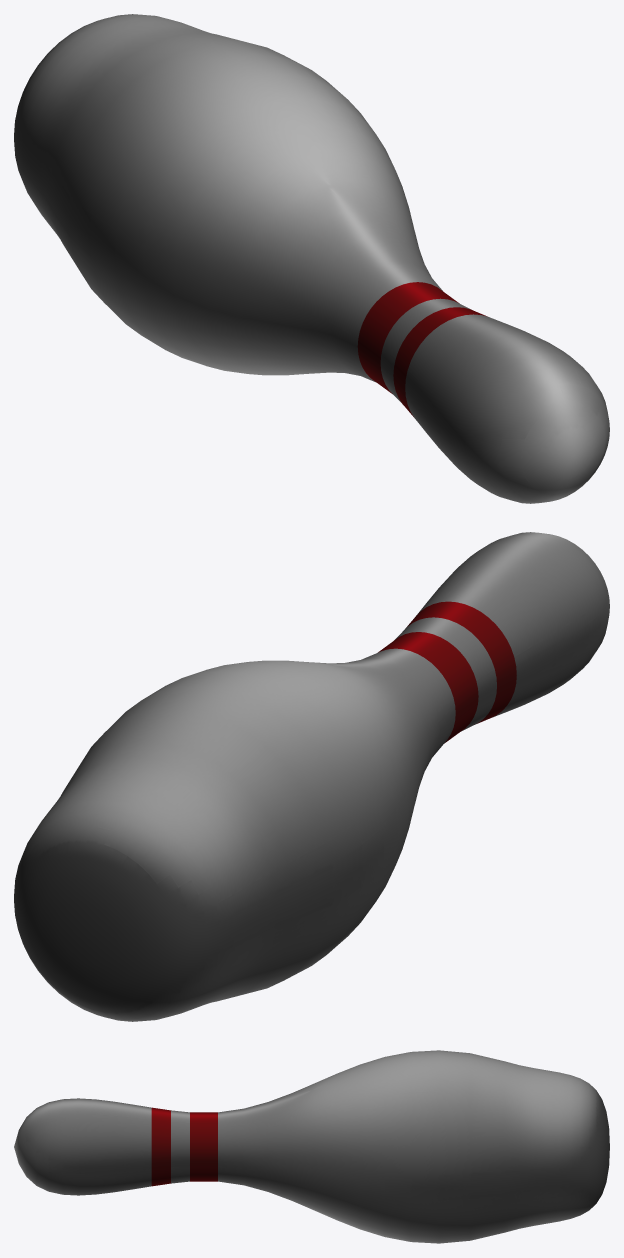
The model's file is BowlingPin.gltf.
3 renders of one model, top to bottom at view 1: azimuth 30°, elevation 25°; view 2: azimuth 150°, elevation 25°; view 3: azimuth 270°, elevation 25°, orthographic. The views are drawn at different scales.
Parts seen in each view (by area): view 1: Pin; view 2: Pin; view 3: Pin.
Part boxes in pixels (x1,y1,x2,y2): Pin: (14,14,609,503); Pin: (14,532,609,1021); Pin: (14,1050,609,1243).
Size of the model in its own units: 0.3908 by 0.3897 by 1.2.
Materials: 2 (2 with a texture image).
